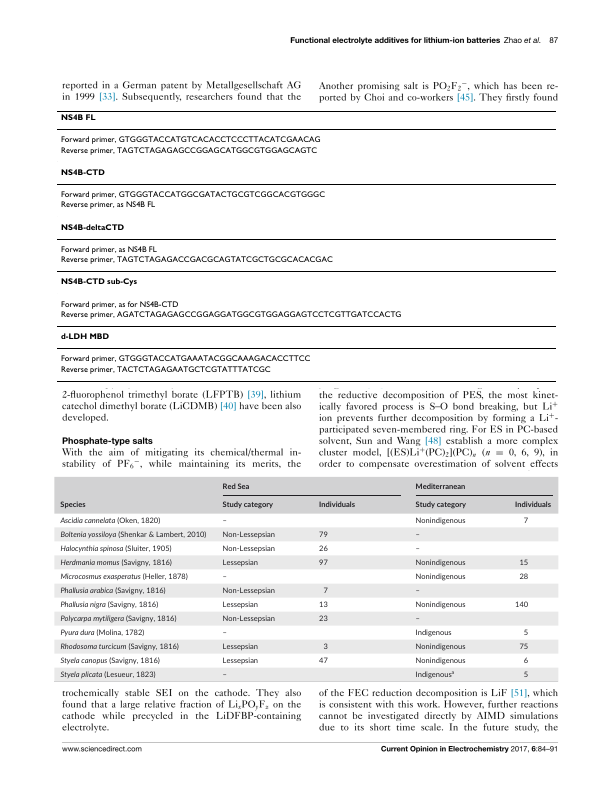borderless: (56, 109, 556, 381), (52, 476, 559, 683)
cell: (59, 310, 402, 320), (59, 255, 333, 265), (59, 190, 326, 200), (59, 146, 318, 156), (59, 136, 321, 145), (59, 355, 311, 364), (59, 365, 271, 375), (59, 529, 206, 541), (59, 571, 188, 583), (59, 641, 179, 653), (59, 613, 177, 625), (59, 543, 172, 555), (59, 557, 172, 569), (59, 585, 166, 597), (59, 515, 160, 527), (59, 655, 160, 667), (59, 300, 179, 310), (59, 599, 158, 611), (59, 669, 156, 681), (59, 627, 144, 639), (59, 245, 157, 255), (59, 201, 156, 210), (59, 278, 138, 287), (414, 480, 465, 493), (59, 223, 125, 233), (221, 529, 275, 541), (221, 543, 275, 555), (221, 585, 275, 597), (221, 613, 275, 625), (221, 499, 273, 511), (414, 499, 466, 511), (414, 515, 466, 527), (414, 557, 466, 569), (414, 571, 466, 583), (414, 599, 466, 611), (414, 641, 466, 653), (414, 655, 466, 667), (414, 668, 454, 681), (59, 168, 105, 178), (414, 627, 452, 639), (59, 333, 109, 342), (221, 557, 258, 569), (221, 599, 258, 611), (221, 641, 258, 653), (221, 655, 258, 667), (221, 480, 250, 493), (59, 114, 96, 123), (59, 499, 86, 511), (317, 501, 355, 509), (513, 501, 551, 509), (317, 529, 328, 541), (317, 543, 328, 555), (317, 557, 328, 569), (513, 602, 528, 609), (317, 602, 328, 609), (317, 616, 328, 623), (317, 658, 328, 665), (522, 655, 528, 667), (518, 560, 528, 567), (518, 574, 528, 581), (518, 644, 528, 651), (221, 518, 227, 525), (522, 518, 528, 525), (414, 532, 420, 539), (414, 546, 420, 553), (221, 574, 227, 581), (322, 588, 328, 595), (414, 588, 420, 595), (414, 616, 420, 623), (221, 630, 227, 637), (522, 630, 528, 637), (322, 644, 328, 651), (221, 672, 227, 679), (522, 672, 528, 679)
